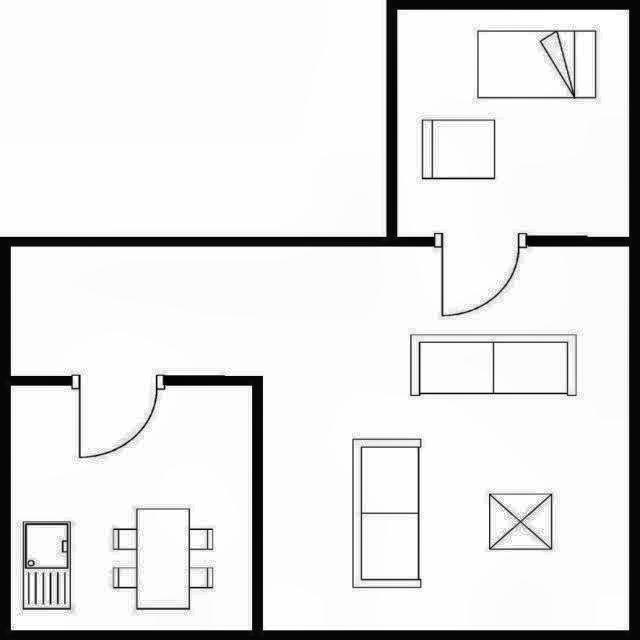room: (11, 246, 630, 630), (11, 386, 252, 630), (398, 10, 628, 235)
